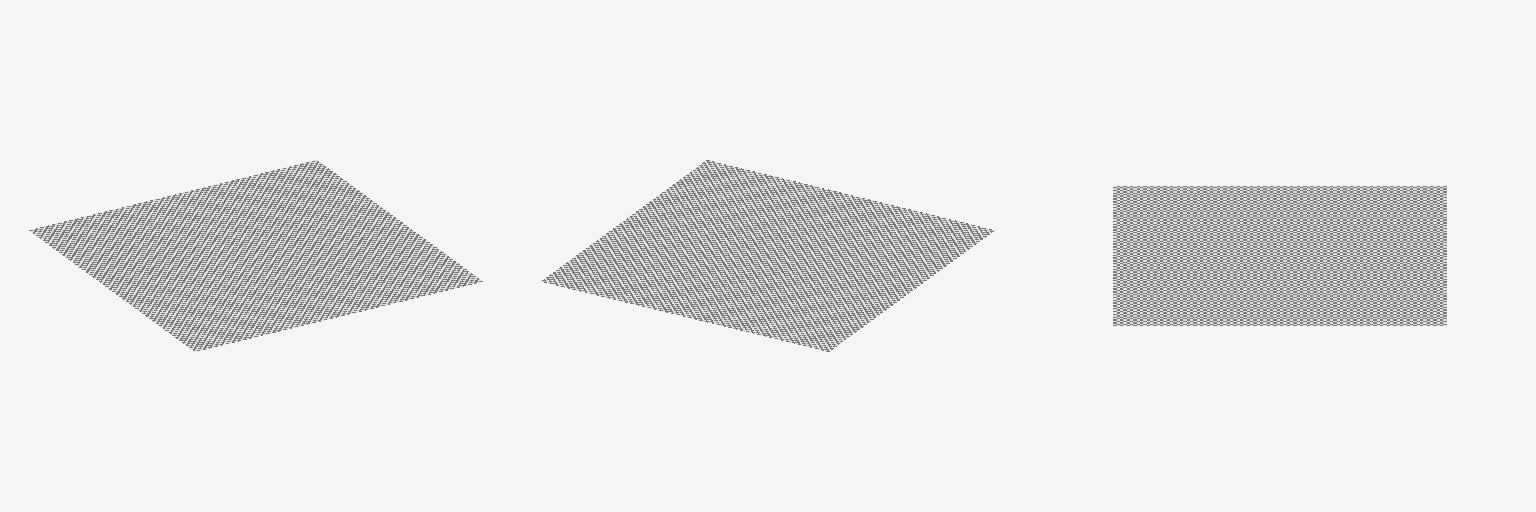
The picture shows the model from 3 angles: view 1: azimuth 30°, elevation 25°; view 2: azimuth 150°, elevation 25°; view 3: azimuth 270°, elevation 25°; orthographic projection.
Visible parts, largest first — view 1: m2, m6, m1, m5, m0, m4, m3, m7; view 2: m1, m5, m2, m6, m3, m7, m0, m4; view 3: m0, m1, m2, m3, m4, m5, m6, m7.
Boxes of the visible parts, box(x1,y1,x2,y2) form: m2: box(29, 199, 254, 287); m6: box(257, 224, 482, 312); m1: box(120, 256, 329, 351); m5: box(182, 160, 391, 255); m0: box(112, 260, 338, 348); m4: box(173, 163, 399, 251); m3: box(37, 195, 246, 290); m7: box(265, 221, 474, 316); m1: box(769, 199, 994, 287); m5: box(541, 224, 766, 312); m2: box(694, 256, 903, 351); m6: box(632, 160, 841, 255); m3: box(685, 260, 911, 348); m7: box(624, 163, 850, 251); m0: box(777, 195, 986, 290); m4: box(549, 221, 758, 316); m0: box(1113, 186, 1279, 255); m1: box(1113, 186, 1279, 255); m2: box(1280, 186, 1446, 255); m3: box(1280, 186, 1446, 255); m4: box(1280, 256, 1446, 325); m5: box(1280, 256, 1446, 325); m6: box(1113, 256, 1279, 325); m7: box(1113, 256, 1279, 325).
Size of the model in its own units: 402 by 0.0001 by 402.
Materials: 8 (1 with a texture image).